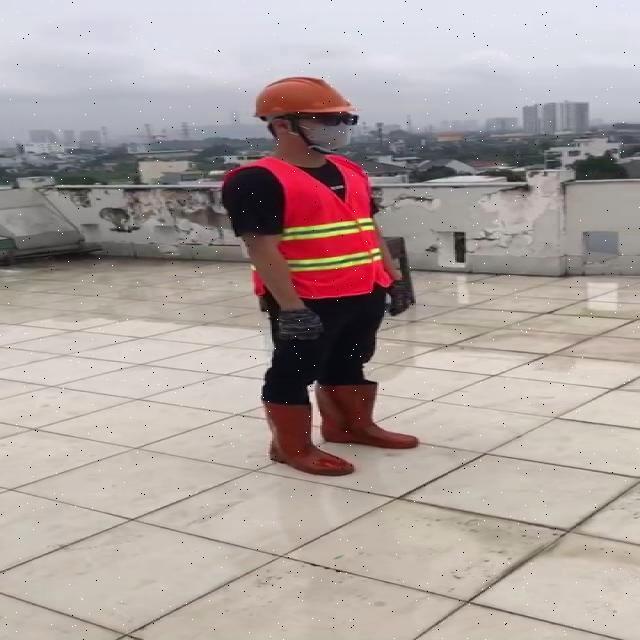Hard_hat: (244, 71, 363, 128)
Person: (216, 68, 422, 625)
Vest: (273, 151, 384, 299)
